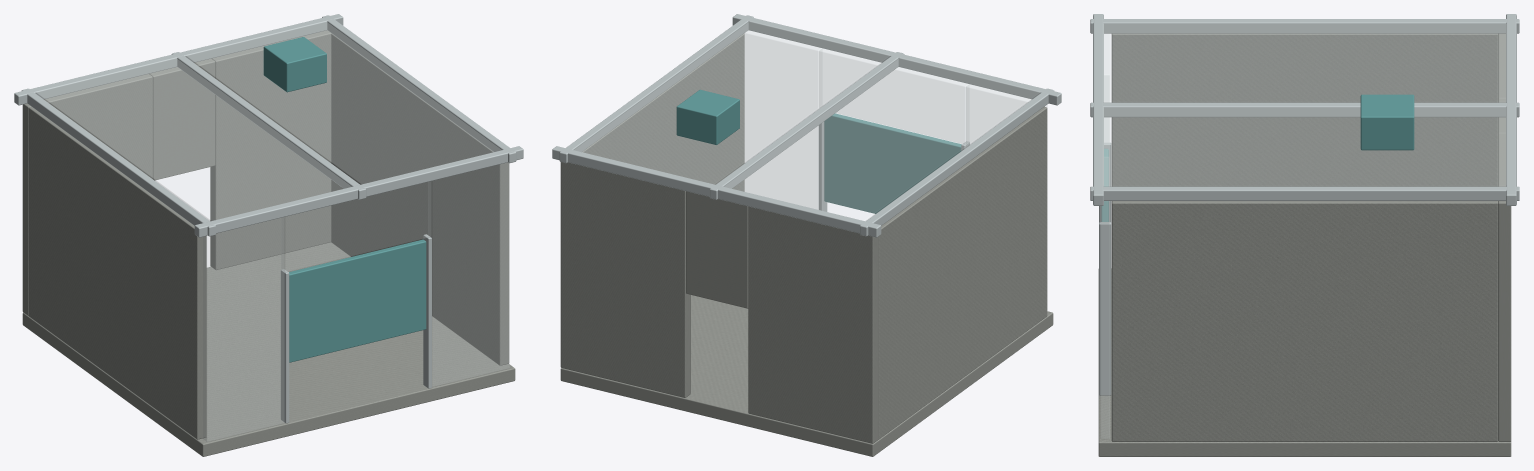
Rendered from hydroelectric-dam-infiltration-roofed-powerhouse-07647696__29372.glb.
3 renders of one model, left to right at view 1: azimuth 30°, elevation 25°; view 2: azimuth 150°, elevation 25°; view 3: azimuth 270°, elevation 25°, orthographic. The views are drawn at different scales.
Visible parts, largest first — view 1: roofed-powerhouse; view 2: roofed-powerhouse; view 3: roofed-powerhouse.
Boxes of the visible parts, x1,y1,x2,y2 form: roofed-powerhouse: [14, 14, 523, 456]; roofed-powerhouse: [552, 14, 1061, 456]; roofed-powerhouse: [1090, 14, 1519, 456].
Bounding box in the file's own units: 5.2 × 4 × 5.2.
Materials: 4 (1 with a texture image).
